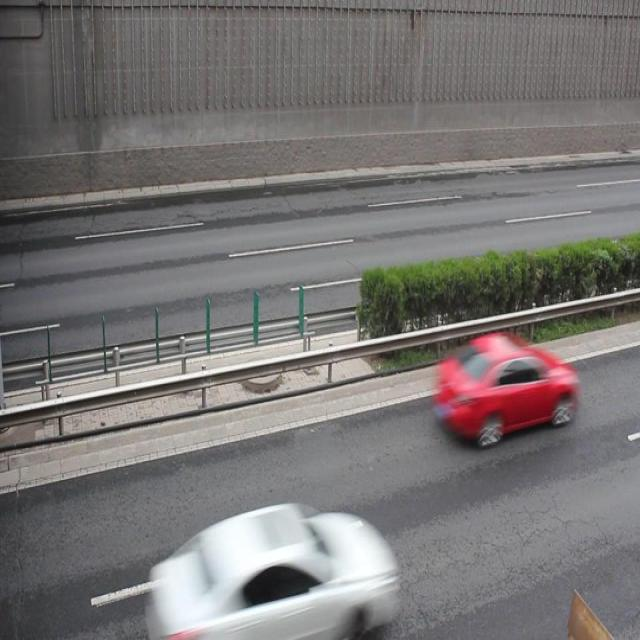car: (146, 501, 402, 640), (433, 329, 577, 444)
